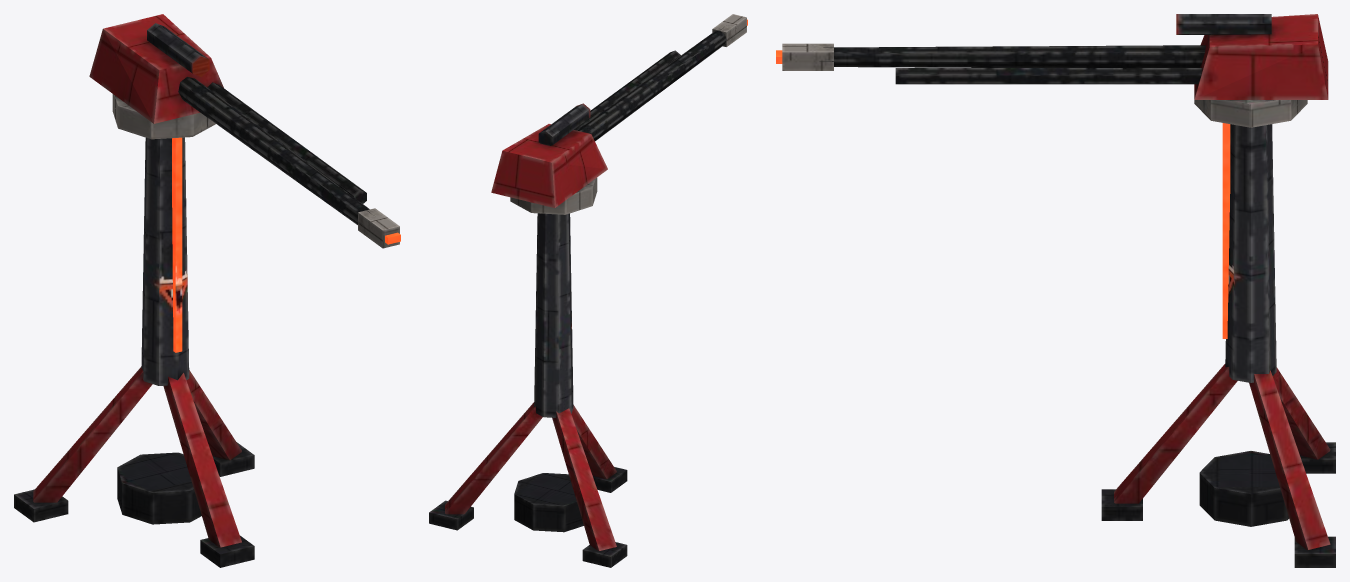
Rendered from u_spire2_e.glb.
3 renders of one model, left to right at view 1: azimuth 30°, elevation 25°; view 2: azimuth 150°, elevation 25°; view 3: azimuth 270°, elevation 25°, orthographic. The views are drawn at different scales.
Parts seen in each view (by area): view 1: u_spire2_e; view 2: u_spire2_e; view 3: u_spire2_e.
Part boxes in pixels (bbox=[...]): u_spire2_e: bbox=[14, 14, 400, 567]; u_spire2_e: bbox=[429, 14, 747, 567]; u_spire2_e: bbox=[776, 14, 1335, 567].
Size of the model in its own units: 1.13 by 2.35 by 2.39.
Materials: 1 (1 with a texture image).
